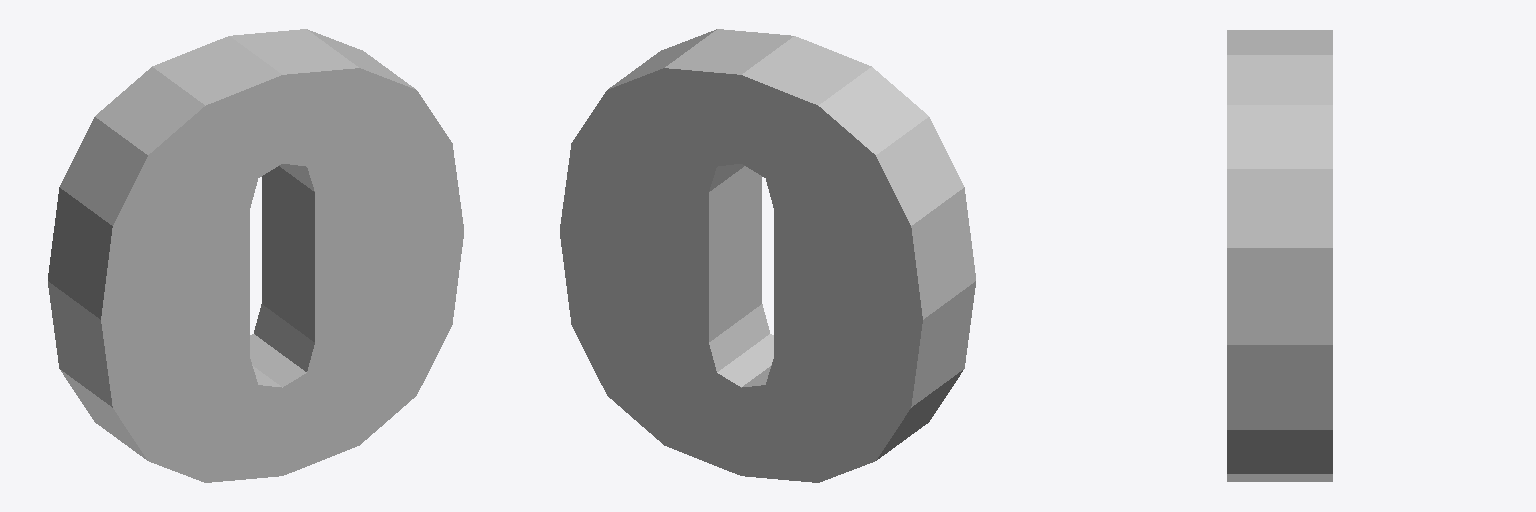
3 views of the same model, side by side, from view 1: azimuth 30°, elevation 25°; view 2: azimuth 150°, elevation 25°; view 3: azimuth 270°, elevation 25° (orthographic).
Parts seen in each view (by area): view 1: text: ABCDEFGHIJKLMNOPQRSTUVWXYZ[number redacted]; view 2: text: ABCDEFGHIJKLMNOPQRSTUVWXYZ[number redacted]; view 3: text: ABCDEFGHIJKLMNOPQRSTUVWXYZ[number redacted].
Boxes of the visible parts, box(x1,y1,x2,y2) form: text: ABCDEFGHIJKLMNOPQRSTUVWXYZ[number redacted]: box(48, 29, 463, 482); text: ABCDEFGHIJKLMNOPQRSTUVWXYZ[number redacted]: box(560, 29, 975, 482); text: ABCDEFGHIJKLMNOPQRSTUVWXYZ[number redacted]: box(1227, 30, 1332, 481).
Bounding box in the file's own units: 98.2 × 104 × 25.